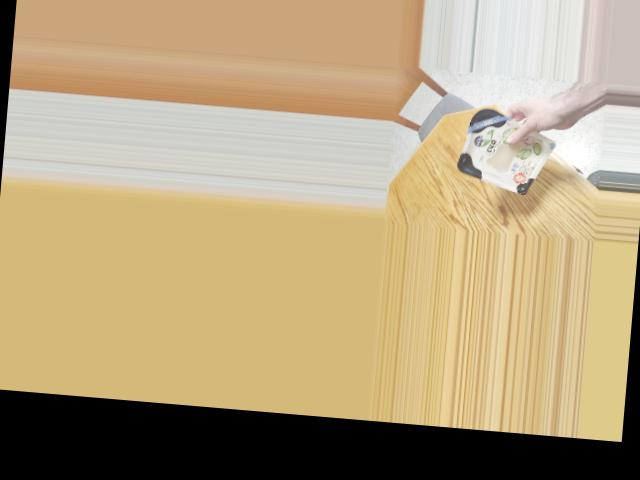cheese: (453, 103, 543, 194)
